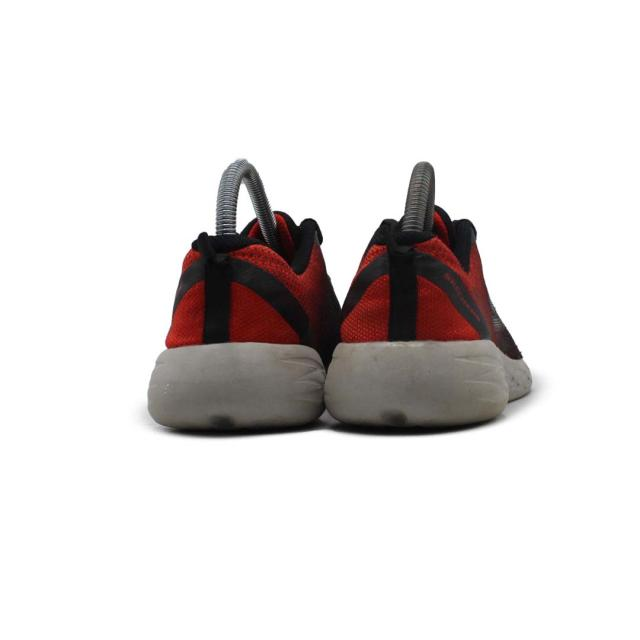heel: (347, 210, 478, 342), (172, 222, 312, 344)
midsole: (156, 344, 526, 436)
